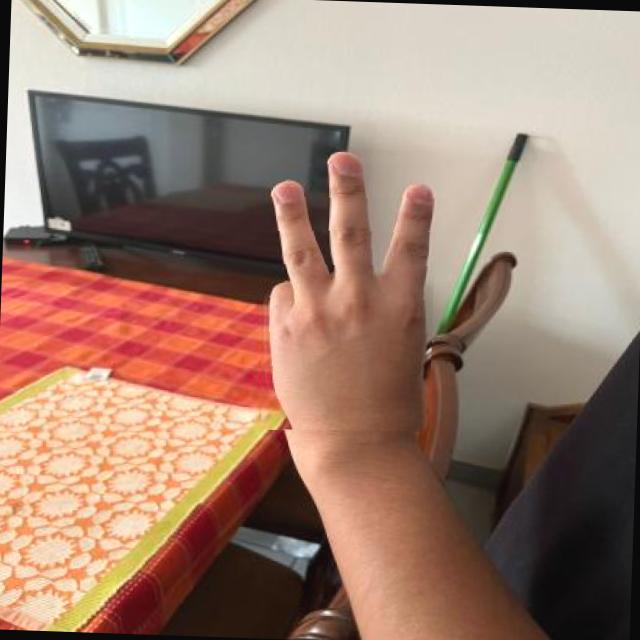W: (252, 145, 438, 435)
